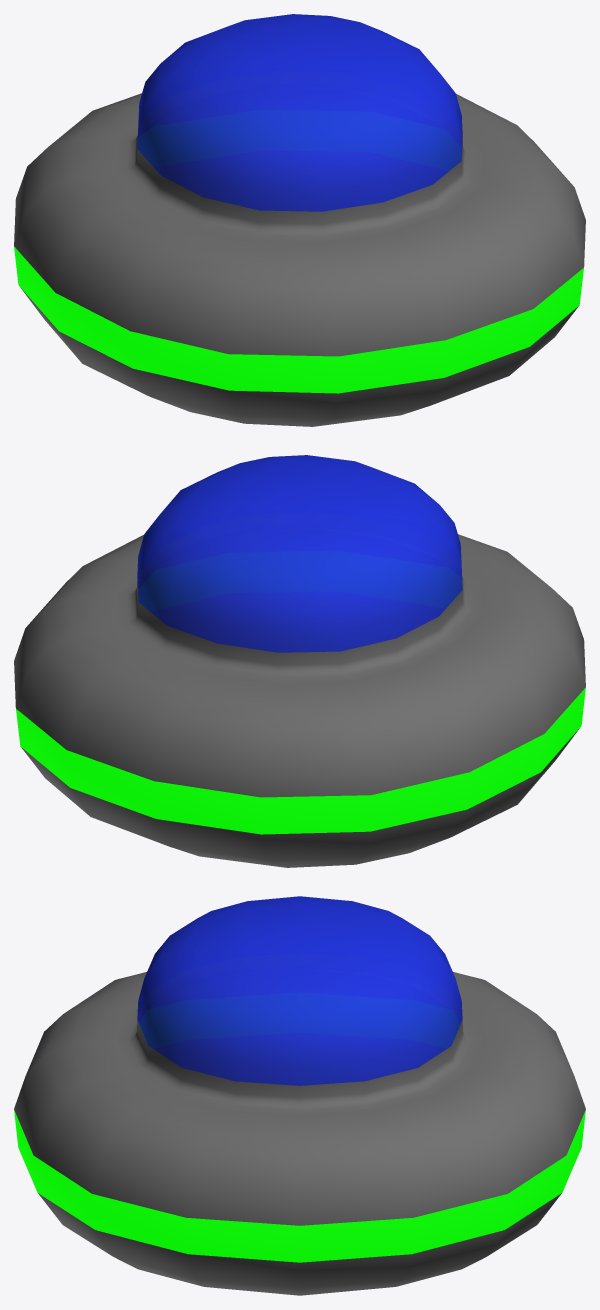
Rendered from ufo.glb.
3 renders of one model, top to bottom at view 1: azimuth 30°, elevation 25°; view 2: azimuth 150°, elevation 25°; view 3: azimuth 270°, elevation 25°, orthographic. The views are drawn at different scales.
Visible parts, largest first — view 1: нло; view 2: нло; view 3: нло.
Part boxes in pixels (bbox=[...]): нло: bbox=[14, 14, 585, 426]; нло: bbox=[14, 455, 585, 867]; нло: bbox=[14, 896, 585, 1295].
Size of the model in its own units: 4.75 by 2.98 by 4.91.
